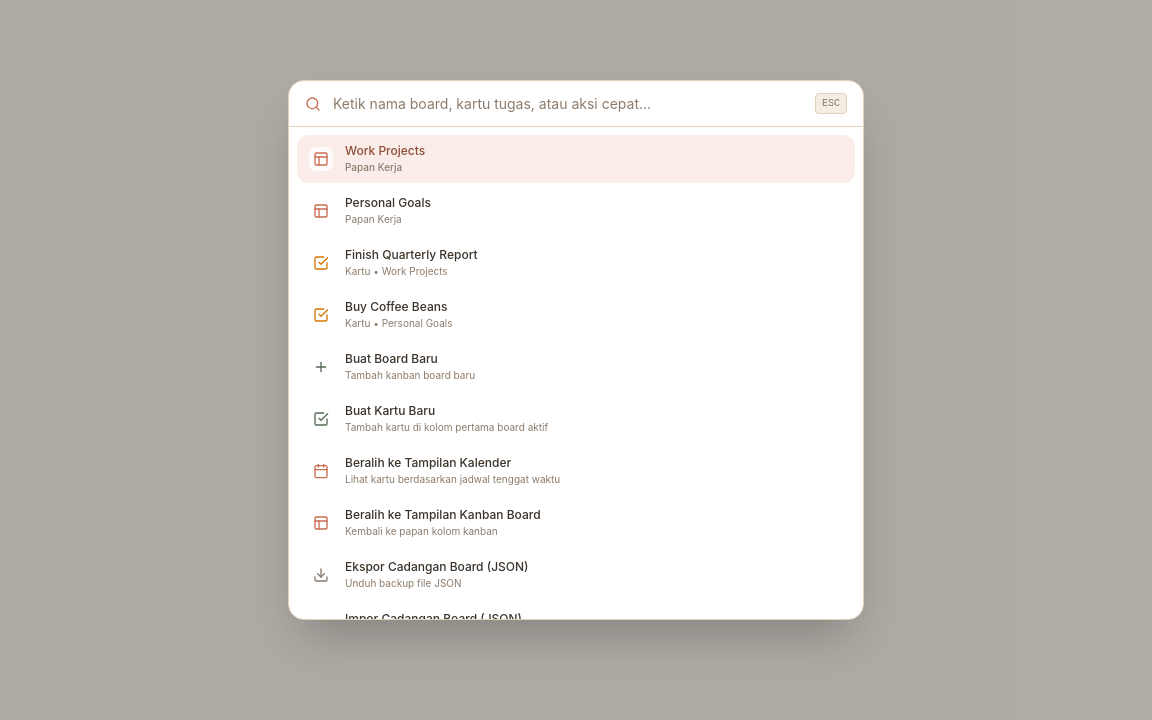
Scenario: Bohemian Command Palette (Ctrl+K / Ctrl+P) › filters boards and cards based on search query
This screenshot has width=1152, height=720.
Type "Coffee" into the field with placeholder "Ketik nama board, kartu tugas, atau aksi cepat..." at {"x": 568, "y": 104}, box left=333, top=94, right=803, bottom=114
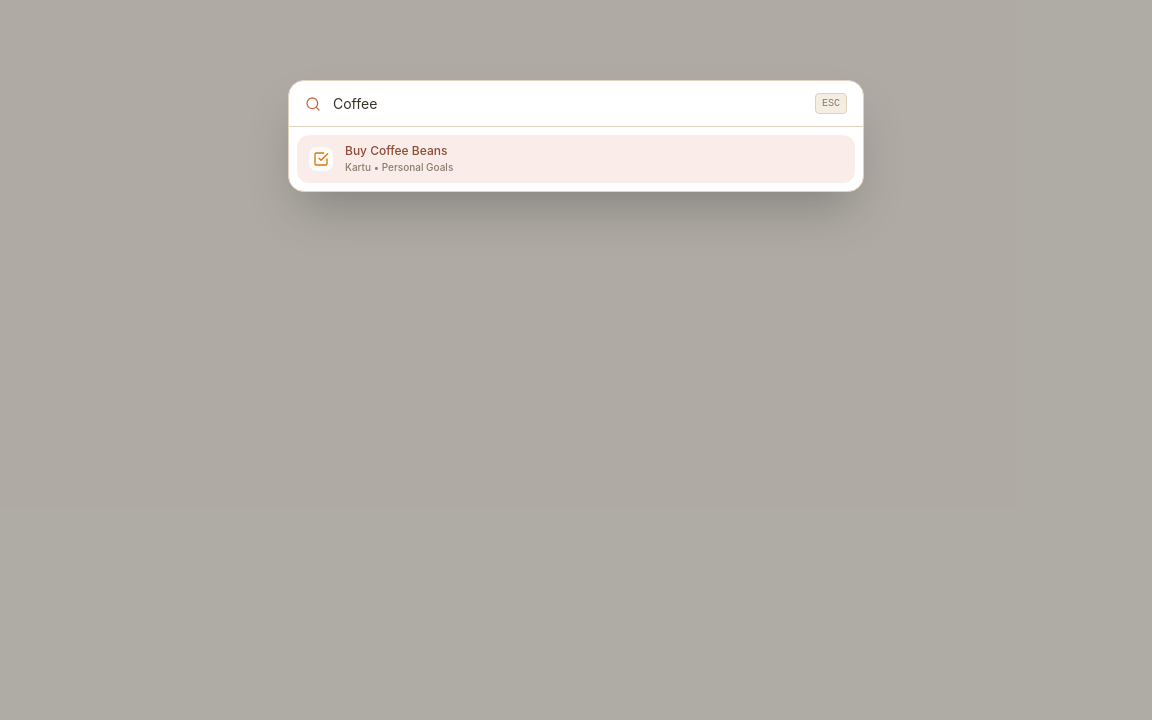
Expected: the text "Buy Coffee Beans" is shown, left=345, top=143, right=447, bottom=158
Expected: the text "Finish Quarterly Report" is gone
